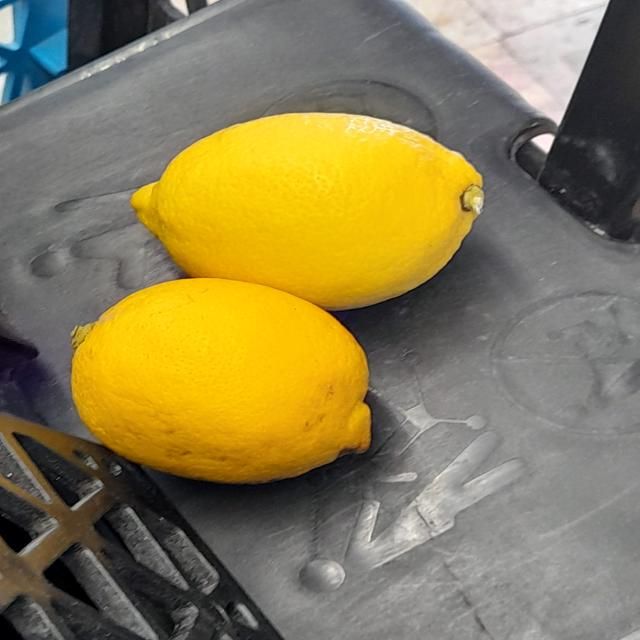lemon: (34, 284, 414, 485), (124, 109, 499, 308)
